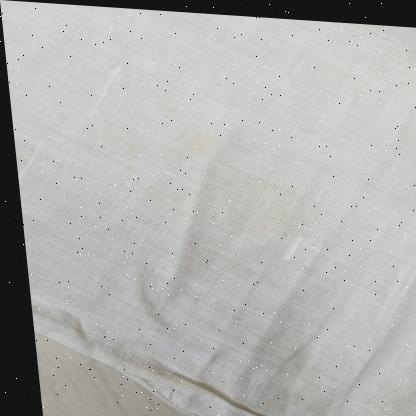spot: (104, 128, 215, 167)
